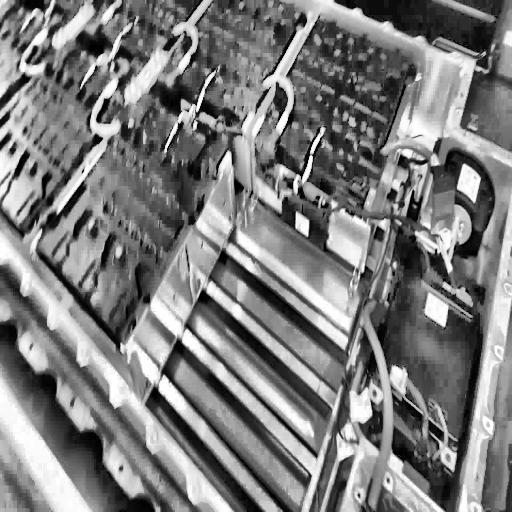high_volt_cable: (348, 286, 395, 511), (382, 130, 459, 225), (259, 68, 296, 142), (89, 70, 127, 140), (17, 21, 52, 90), (167, 19, 202, 76)
